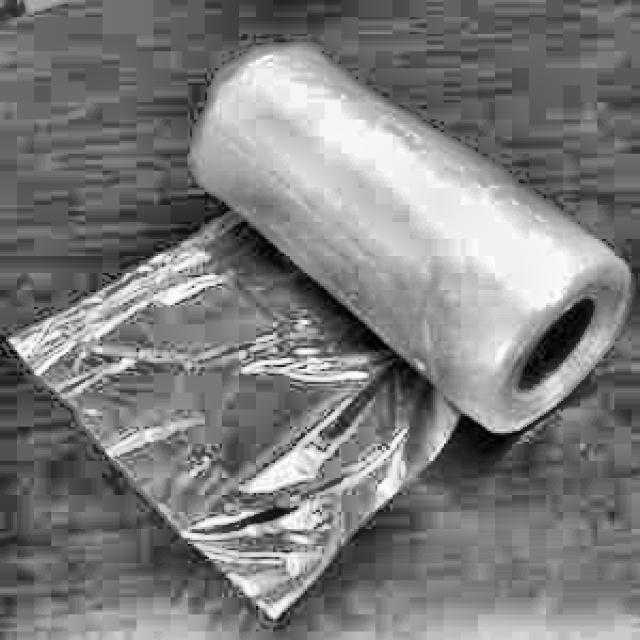Plastic: (30, 26, 630, 617)
